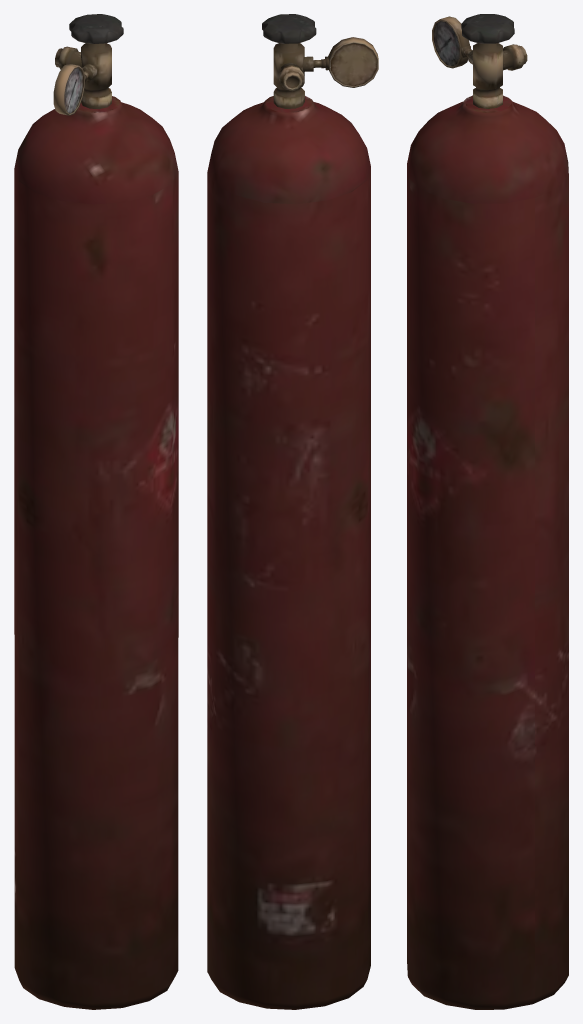
File: gas-cylinder-tall--1.gltf
The picture shows the model from 3 angles, left to right: view 1: azimuth 30°, elevation 25°; view 2: azimuth 150°, elevation 25°; view 3: azimuth 270°, elevation 25°; orthographic projection.
Visible parts, largest first — view 1: cylinder, valve, tap, dial.rim, dial; view 2: cylinder, valve, dial, tap, dial.rim; view 3: cylinder, valve, tap, dial, dial.rim.
Boxes of the visible parts, left/top/right/bottom form: cylinder: left=14, top=96, right=178, bottom=1009; valve: left=55, top=43, right=111, bottom=109; tap: left=69, top=14, right=123, bottom=43; dial.rim: left=53, top=63, right=84, bottom=115; dial: left=64, top=68, right=82, bottom=113; cylinder: left=207, top=96, right=370, bottom=1009; valve: left=273, top=43, right=328, bottom=108; dial: left=330, top=43, right=376, bottom=86; tap: left=262, top=14, right=316, bottom=43; dial.rim: left=328, top=37, right=378, bottom=87; cylinder: left=407, top=95, right=568, bottom=1009; valve: left=461, top=43, right=527, bottom=108; tap: left=461, top=14, right=514, bottom=43; dial: left=433, top=21, right=459, bottom=66; dial.rim: left=432, top=16, right=469, bottom=68.
Bounding box in the file's own units: 0.2218 × 1.45 × 0.2218.
5 materials, 5 textured.
